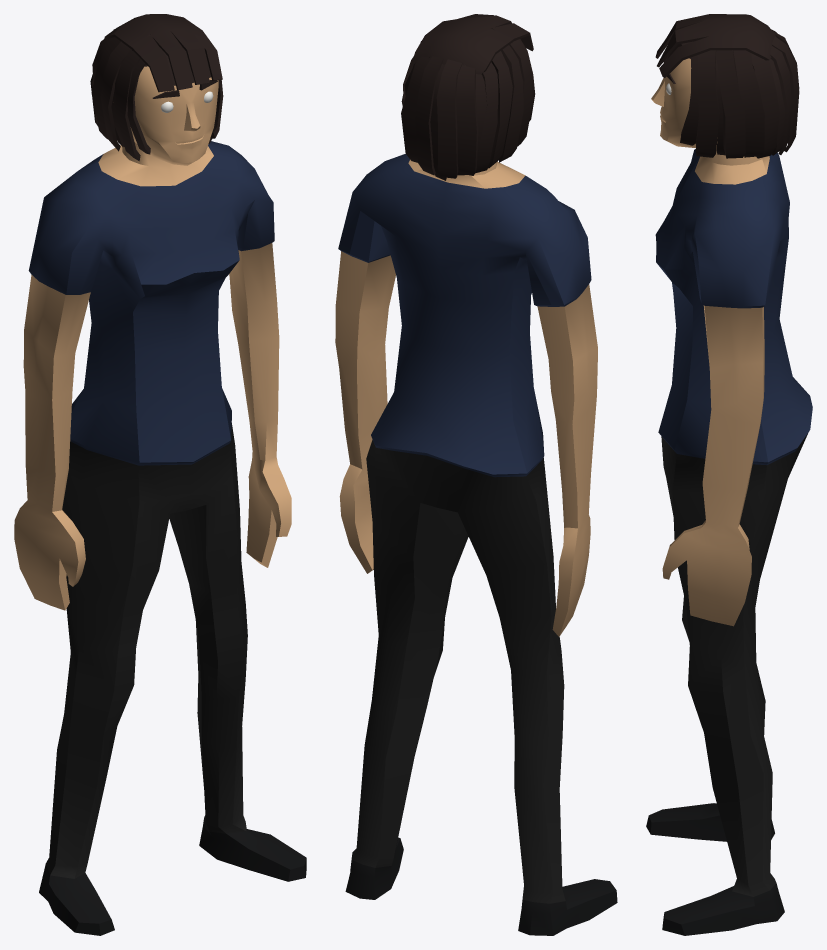
Rendered from female_casual.glb.
3 renders of one model, left to right at view 1: azimuth 30°, elevation 25°; view 2: azimuth 150°, elevation 25°; view 3: azimuth 270°, elevation 25°, orthographic. The views are drawn at different scales.
Parts seen in each view (by area): view 1: FemaleCasual; view 2: FemaleCasual; view 3: FemaleCasual.
Boxes of the visible parts, left/top/right/bottom form: FemaleCasual: left=14, top=14, right=306, bottom=935; FemaleCasual: left=335, top=14, right=617, bottom=935; FemaleCasual: left=646, top=14, right=812, bottom=935.
Bounding box in the file's own units: 0.5466 × 1.8 × 0.3179.
